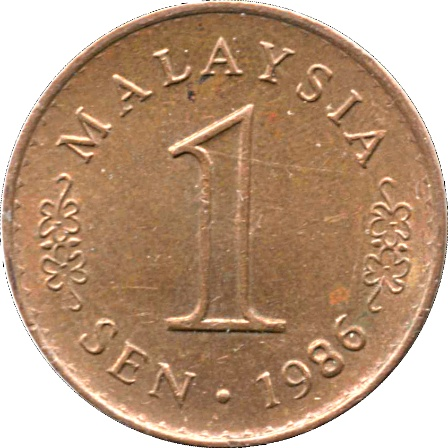1c: (0, 0, 448, 448)
